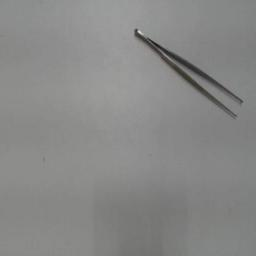Gillies Toothed Dissector: (131, 22, 249, 124)
